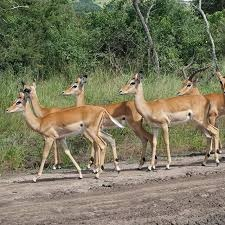impala: (116, 68, 221, 169), (14, 77, 120, 173), (60, 73, 159, 168), (4, 90, 108, 180), (176, 75, 224, 162)
